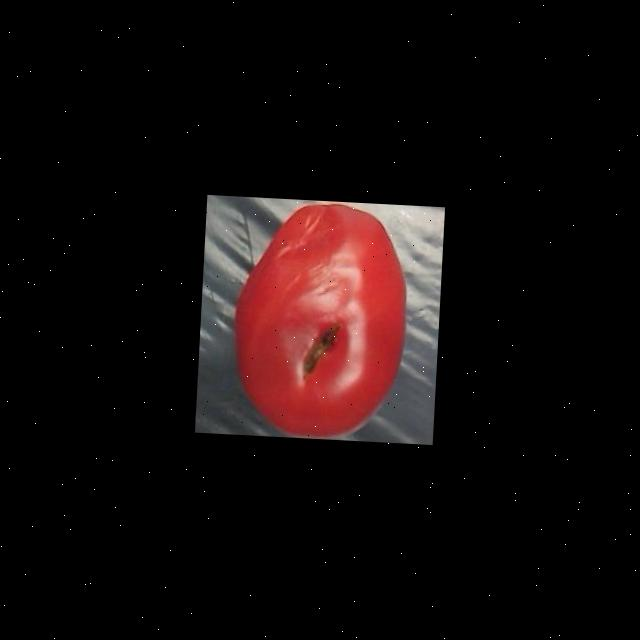tomato: (236, 206, 407, 439)
